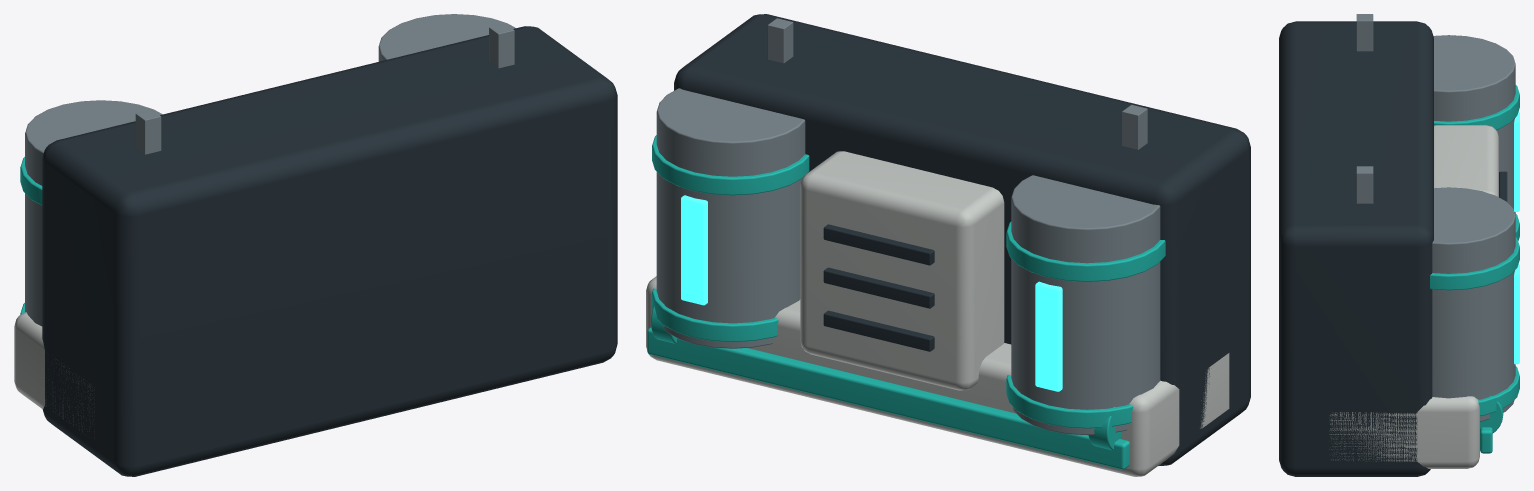
File: SM_Dock_Material_Body.fbx
3 renders of one model, left to right at view 1: azimuth 30°, elevation 25°; view 2: azimuth 150°, elevation 25°; view 3: azimuth 270°, elevation 25°, orthographic. The views are drawn at different scales.
Parts seen in each view (by area): view 1: SM_Dock_Material_Body; view 2: SM_Dock_Material_Body; view 3: SM_Dock_Material_Body.
Part boxes in pixels (<box>): SM_Dock_Material_Body: <box>14,14,617,476</box>; SM_Dock_Material_Body: <box>646,14,1250,476</box>; SM_Dock_Material_Body: <box>1279,14,1519,476</box>.
Size of the model in its own units: 122 by 57.5 by 74.
